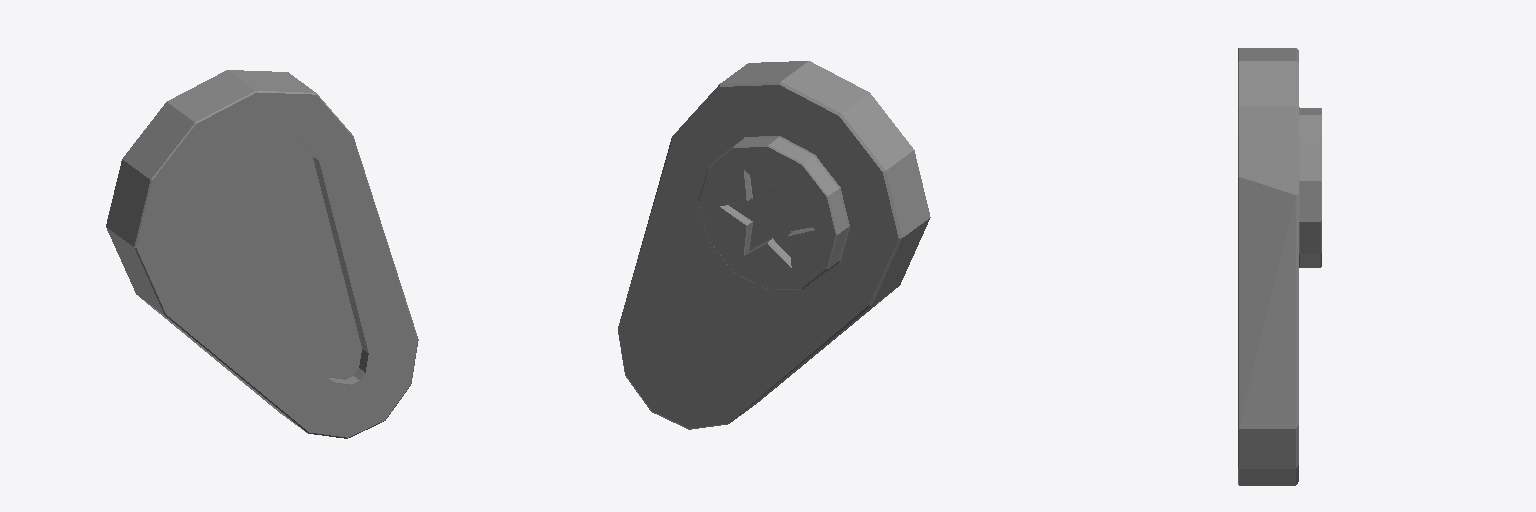
File: tuerca_left_back.obj
3 views of the same model, side by side, from view 1: azimuth 30°, elevation 25°; view 2: azimuth 150°, elevation 25°; view 3: azimuth 270°, elevation 25° (orthographic).
Parts seen in each view (by area): view 1: tuerca_left_back; view 2: tuerca_left_back; view 3: tuerca_left_back.
Boxes of the visible parts, box(x1,y1,x2,y2) form: tuerca_left_back: box(106, 70, 418, 438); tuerca_left_back: box(618, 61, 930, 429); tuerca_left_back: box(1238, 48, 1321, 485).
Size of the model in its own units: 3.97 by 4.94 by 1.02.